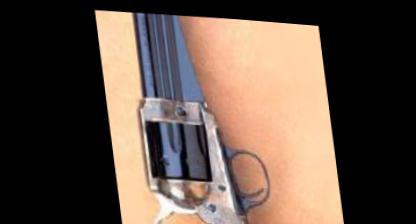pistol: (113, 7, 324, 221)
